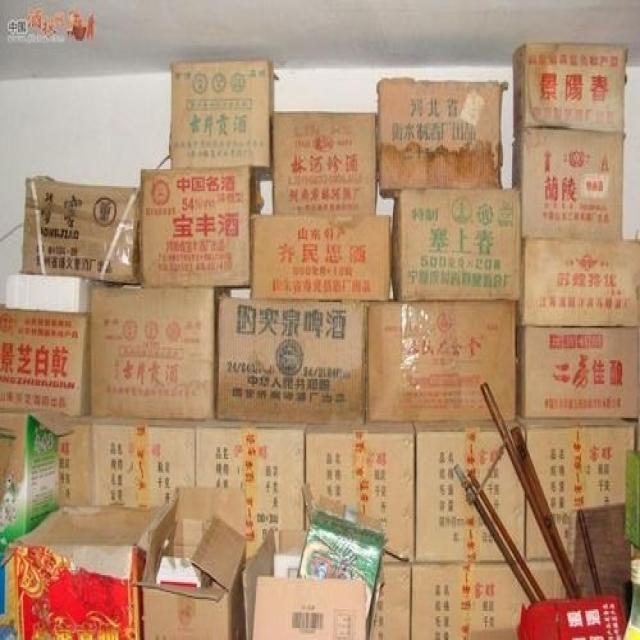box: (242, 483, 387, 640), (17, 502, 165, 640), (218, 297, 369, 425), (90, 285, 230, 418), (366, 300, 517, 422), (132, 485, 247, 640), (518, 413, 634, 560), (413, 422, 525, 565), (376, 80, 509, 200), (195, 418, 306, 560), (305, 422, 416, 561), (138, 166, 261, 288), (390, 188, 521, 302), (22, 177, 141, 285), (512, 128, 623, 239), (250, 213, 389, 300), (0, 406, 77, 555), (517, 326, 639, 420), (172, 60, 275, 167), (512, 43, 628, 138), (273, 111, 376, 215), (517, 241, 640, 328), (92, 415, 206, 507), (0, 304, 91, 416), (411, 561, 530, 638), (60, 413, 109, 509), (371, 561, 413, 638), (526, 498, 553, 561), (525, 561, 566, 601)
